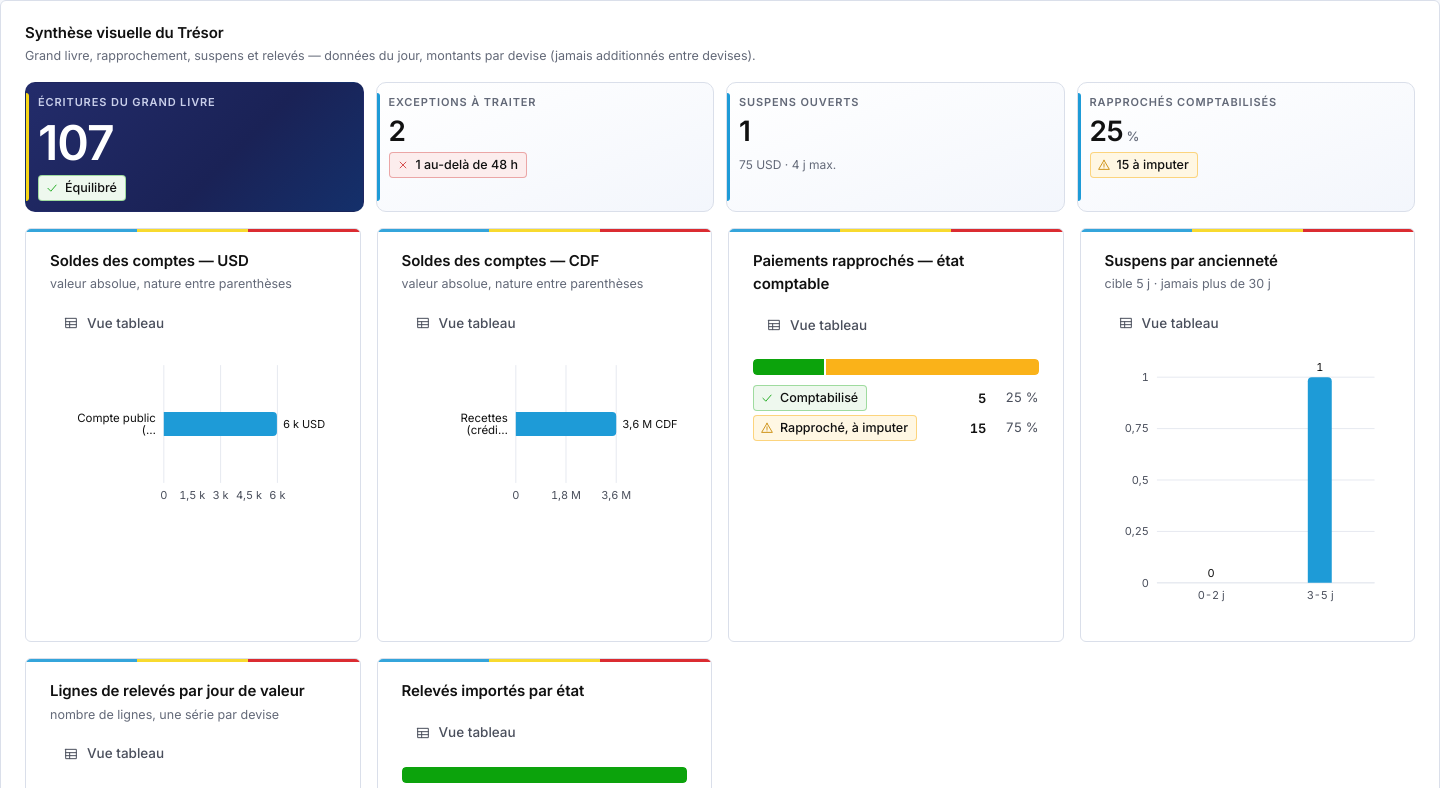
Scenario: rendu des visuels › synthèse du Trésor : tuiles, un graphique de soldes par devise, vue tableau
Expected: the heading "Écritures du grand livre" is shown, [38,95,216,109]
Expected: the text "107" is shown, [38,114,114,172]
Click the button "Vue tableau" below "Soldes des comptes — USD": (114, 323) [50,305,177,341]
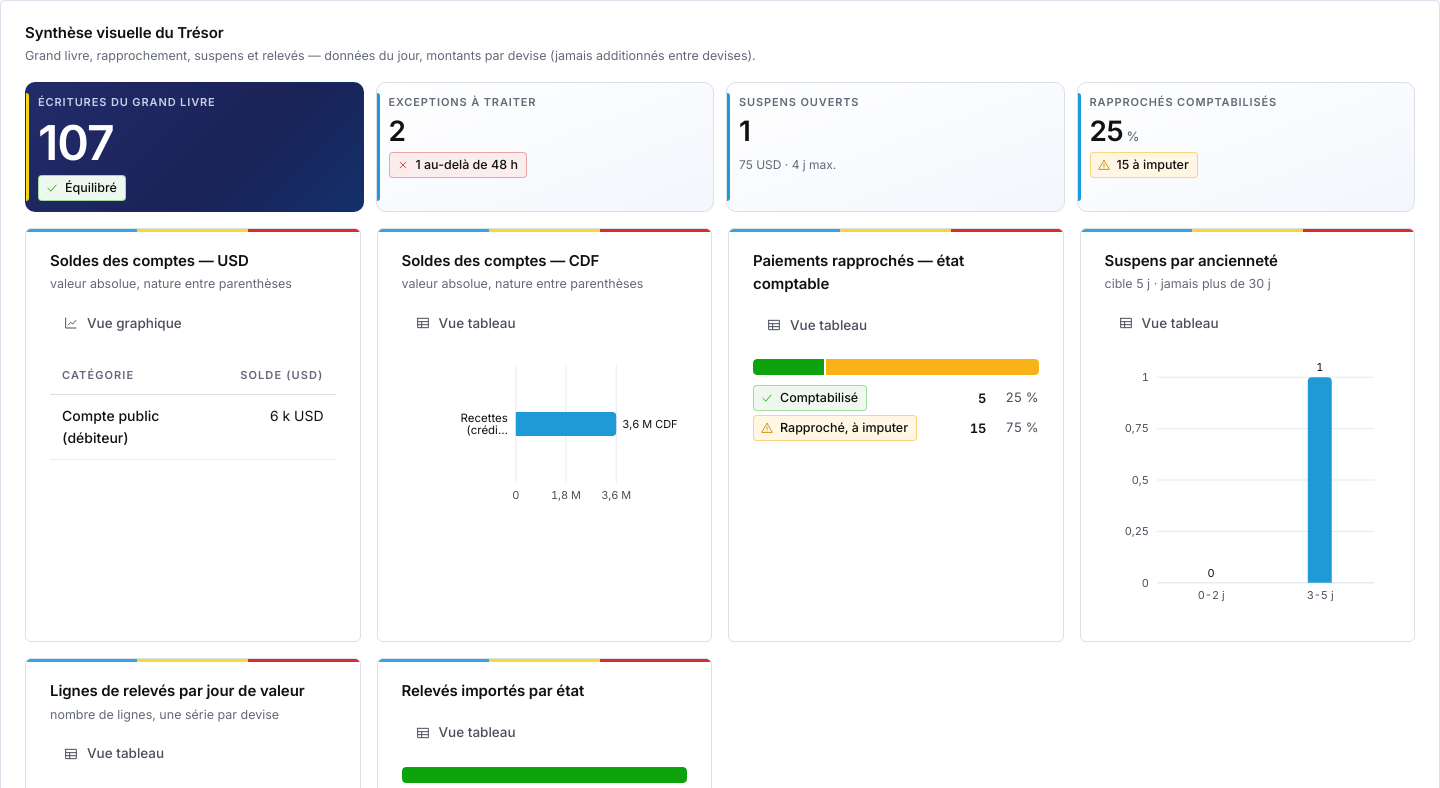
Expected: the table is shown, [50,357,336,460]
